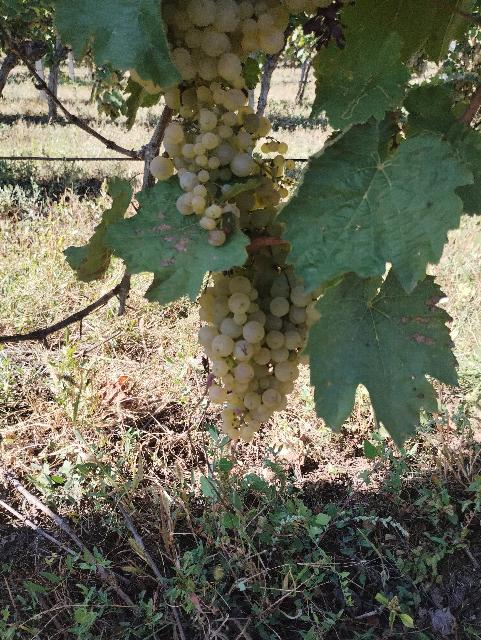grapes: (150, 0, 298, 248), (199, 272, 314, 442)
